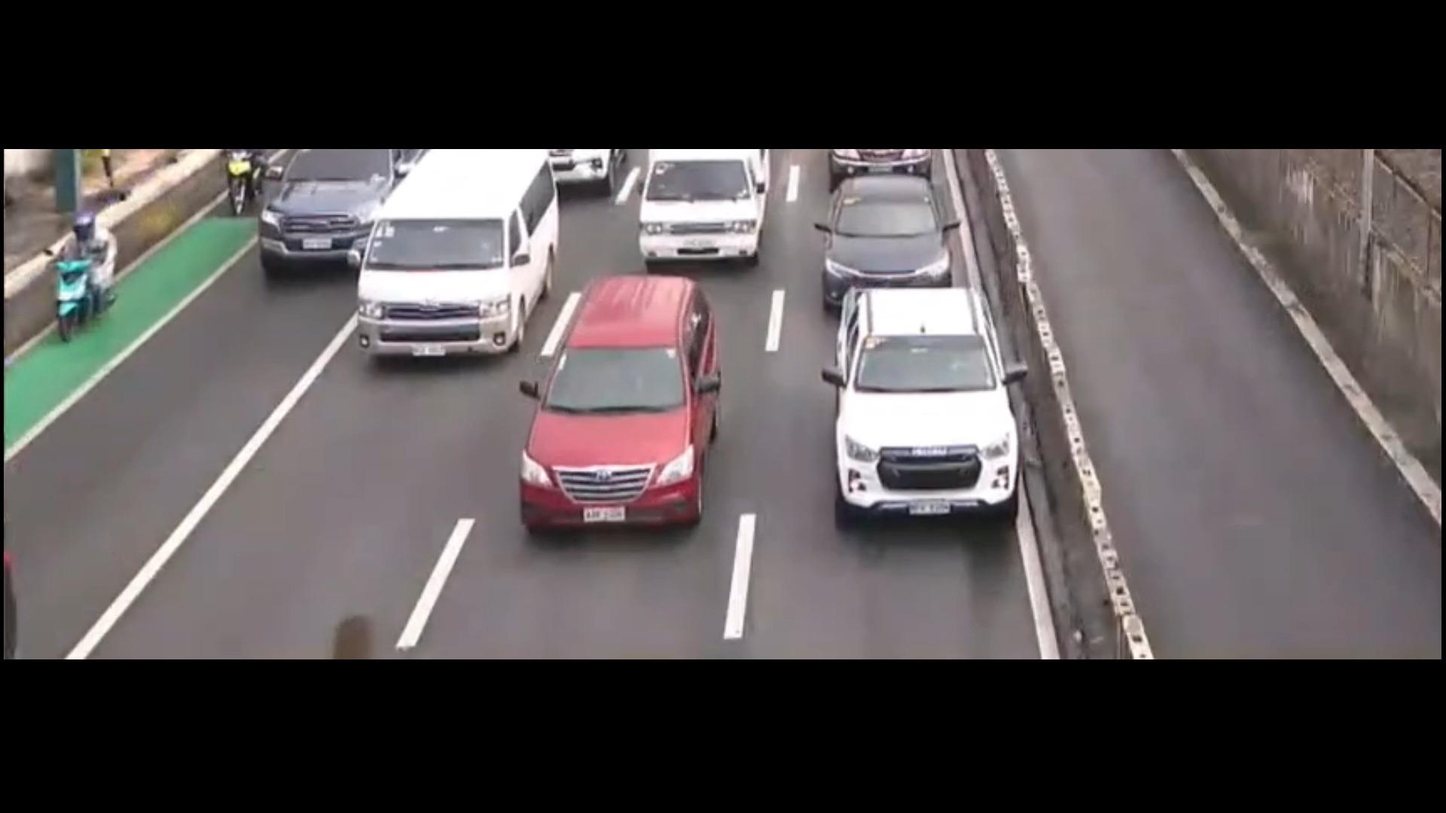Motorcycle: (36, 205, 109, 352)
Multicab: (635, 149, 770, 275)
SUV: (508, 277, 734, 538), (832, 286, 1032, 529), (262, 149, 407, 275)
Sedan: (810, 173, 953, 307)
Van: (358, 147, 557, 367)
